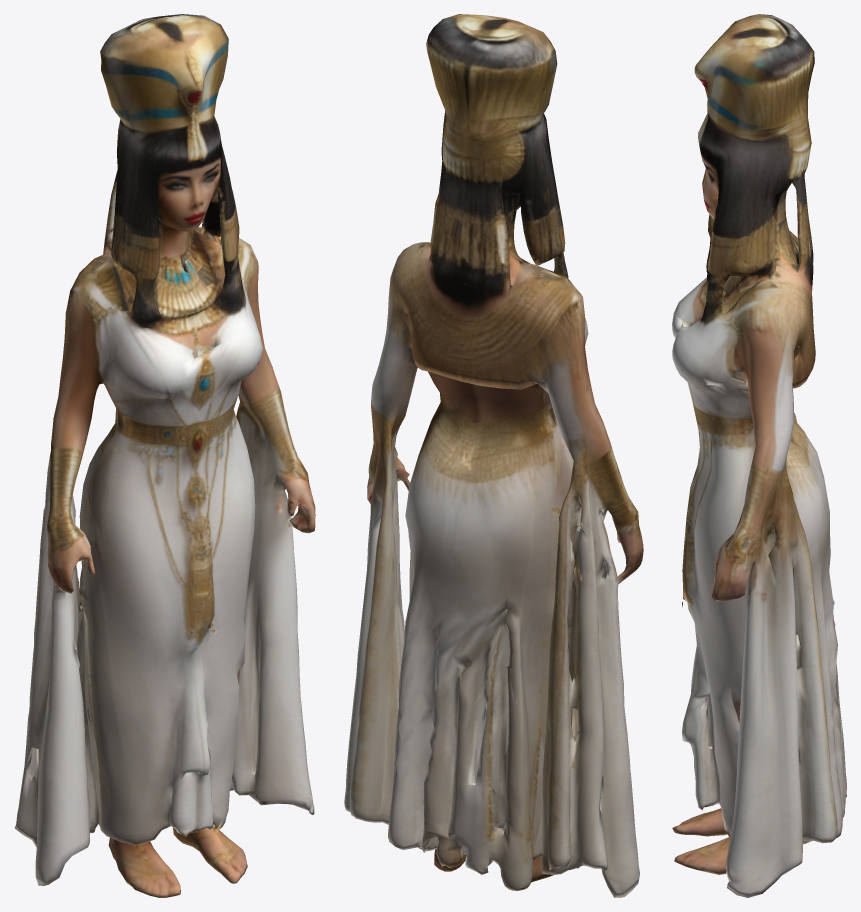
Rendered from cleopatra_-_egyptian_queen (1).glb.
3 renders of one model, left to right at view 1: azimuth 30°, elevation 25°; view 2: azimuth 150°, elevation 25°; view 3: azimuth 270°, elevation 25°, orthographic. The views are drawn at different scales.
Visible parts, largest first — view 1: Mesh1_Mesh1.132; view 2: Mesh1_Mesh1.132; view 3: Mesh1_Mesh1.132.
Part boxes in pixels (x1=…): Mesh1_Mesh1.132: x1=14, y1=14, x2=315, y2=897; Mesh1_Mesh1.132: x1=344, y1=14, x2=643, y2=897; Mesh1_Mesh1.132: x1=672, y1=14, x2=846, y2=897.
Bounding box in the file's own units: 0.6813 × 2 × 0.3863.
1 material, 1 textured.
